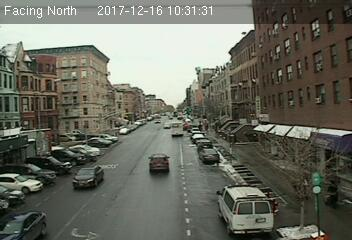car: (1, 210, 47, 240), (73, 166, 105, 189), (148, 153, 171, 172), (200, 147, 218, 164)
police: (217, 183, 276, 239)
